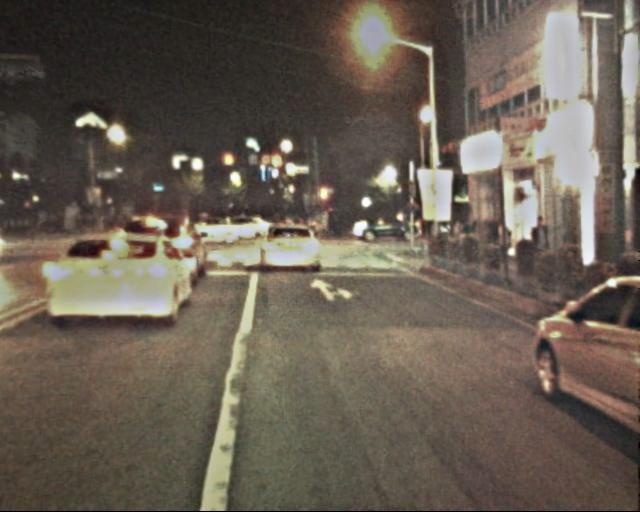person: (39, 204, 127, 235), (526, 216, 557, 292), (492, 218, 515, 274)
